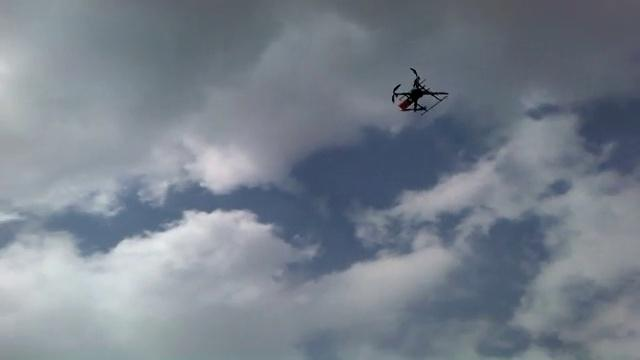drone: (387, 65, 449, 117)
